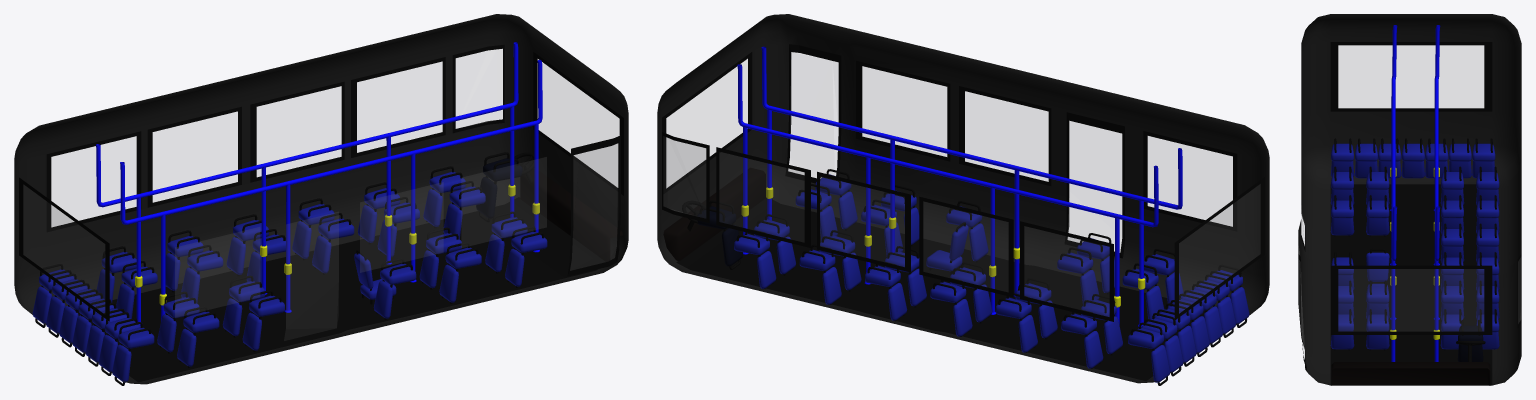
Rendered from bus.FBX.
The picture shows the model from 3 angles, left to right: view 1: azimuth 30°, elevation 25°; view 2: azimuth 150°, elevation 25°; view 3: azimuth 270°, elevation 25°; orthographic projection. The views are drawn at different scales.
Visible parts, largest first — view 1: bus, front bus cube, hansles, handles, ChamferBox036, Loft149, ChamferBox035, ChamferBox024, ChamferBox006, ChamferBox016, ChamferBox042, ChamferBox048 (+24 smaller); view 2: bus, handles (×2), front bus cube, hansles, Loft149, ChamferBox024, ChamferBox016, ChamferBox032, ChamferBox044, ChamferBox058, ChamferBox042, ChamferBox054 (+19 smaller); view 3: bus, front bus cube, handles, hansles, ChamferBox018, Loft147, Loft146, ChamferBox010, ChamferBox008, ChamferBox070, ChamferBox057, ChamferBox009 (+49 smaller).
Boxes of the visible parts, x1=… form: bus: x1=14, y1=14, x2=628, y2=384; front bus cube: x1=520, y1=169, x2=622, y2=261; hansles: x1=120, y1=60, x2=542, y2=224; handles: x1=96, y1=42, x2=518, y2=207; ChamferBox036: x1=476, y1=177, x2=497, y2=218; Loft149: x1=286, y1=184, x2=290, y2=310; ChamferBox035: x1=483, y1=158, x2=522, y2=181; ChamferBox024: x1=505, y1=248, x2=524, y2=286; ChamferBox006: x1=177, y1=328, x2=196, y2=366; ChamferBox016: x1=373, y1=280, x2=393, y2=318; ChamferBox042: x1=423, y1=189, x2=442, y2=226; ChamferBox048: x1=312, y1=235, x2=331, y2=273; bus: x1=657, y1=14, x2=1269, y2=383; handles (×2): x1=737, y1=64, x2=1158, y2=324; front bus cube: x1=663, y1=167, x2=765, y2=260; hansles: x1=761, y1=46, x2=1182, y2=209; Loft149: x1=1014, y1=170, x2=1019, y2=293; ChamferBox024: x1=838, y1=191, x2=857, y2=229; ChamferBox016: x1=969, y1=223, x2=988, y2=261; ChamferBox032: x1=953, y1=299, x2=972, y2=336; ChamferBox044: x1=822, y1=267, x2=841, y2=304; ChamferBox058: x1=1018, y1=315, x2=1037, y2=352; ChamferBox042: x1=757, y1=251, x2=776, y2=288; ChamferBox054: x1=1084, y1=331, x2=1103, y2=368; bus: x1=1298, y1=14, x2=1521, y2=385; front bus cube: x1=1331, y1=362, x2=1490, y2=385; handles: x1=1434, y1=25, x2=1440, y2=261; hansles: x1=1391, y1=25, x2=1397, y2=261; ChamferBox018: x1=1366, y1=252, x2=1389, y2=281; Loft147: x1=1391, y1=258, x2=1395, y2=361; Loft146: x1=1434, y1=260, x2=1438, y2=361; ChamferBox010: x1=1366, y1=217, x2=1389, y2=235; ChamferBox008: x1=1330, y1=217, x2=1354, y2=235; ChamferBox070: x1=1401, y1=161, x2=1424, y2=178; ChamferBox057: x1=1476, y1=200, x2=1499, y2=218; ChamferBox009: x1=1366, y1=200, x2=1389, y2=218.
Size of the model in its own units: 1804 by 760 by 648.
